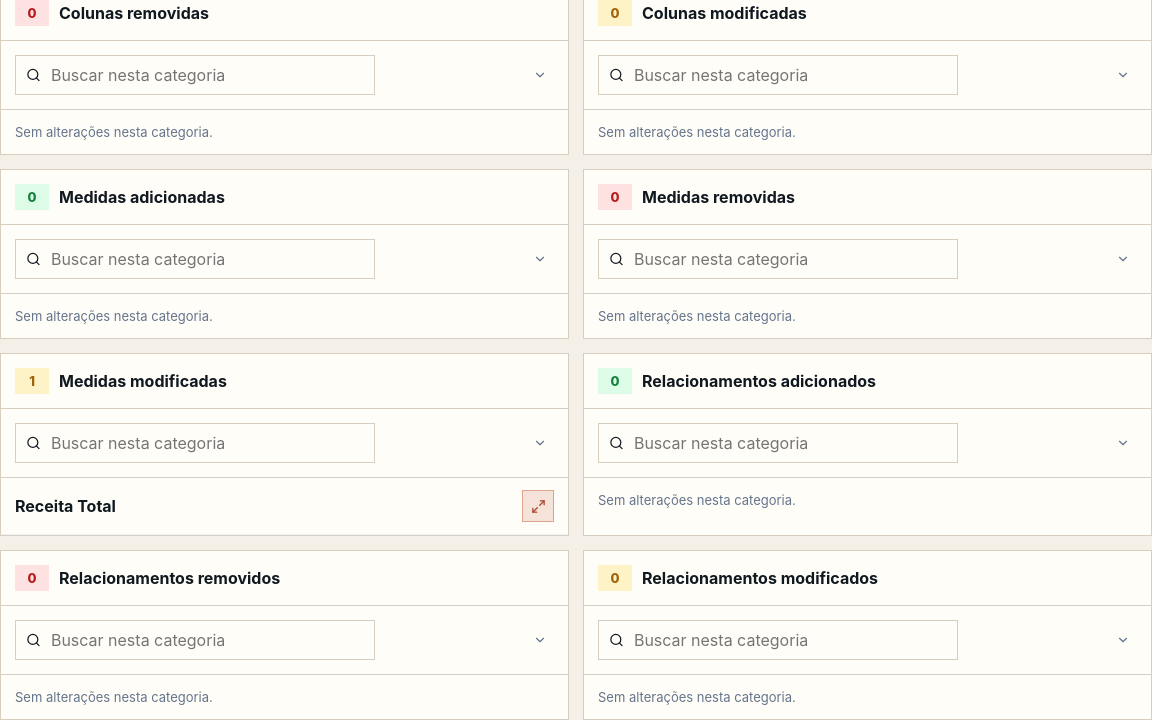
CompareView › mantem Antes e Depois para medida modificada
(page scrolled)
Expected: the list item "Receita Total" is shown, x1=1 y1=478 x2=568 y2=535
Click the button named "expandir detalhe". click: (538, 506)
box: x1=522 y1=490 x2=554 y2=522
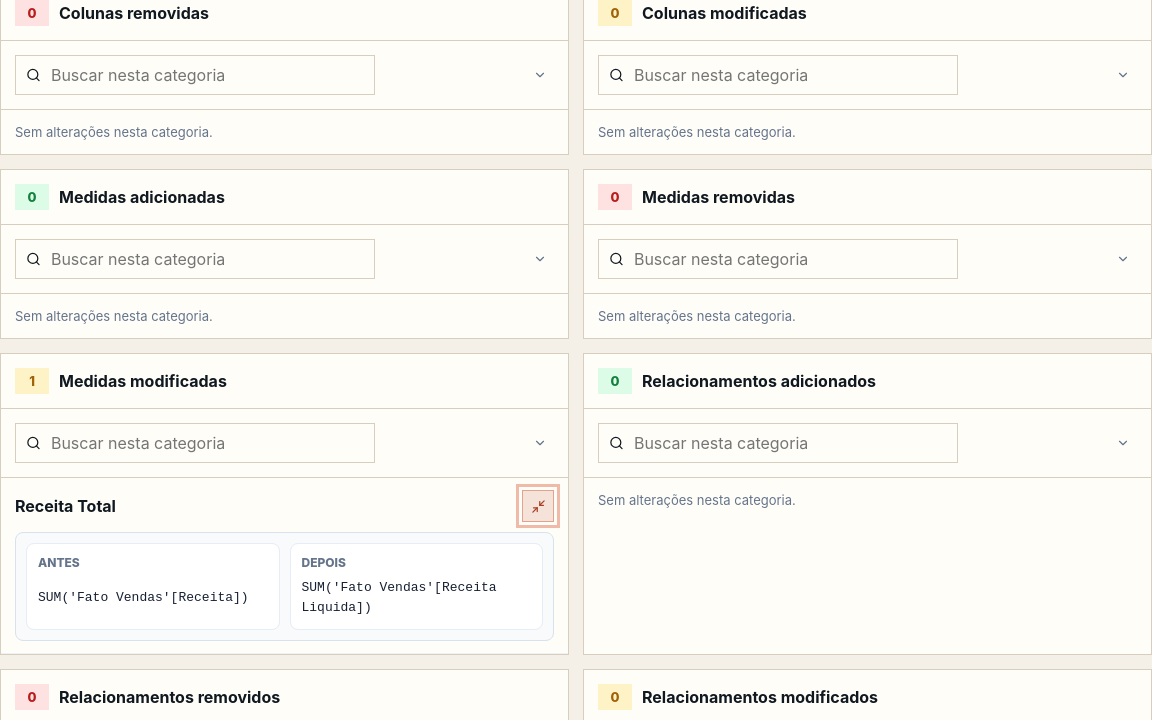
Expected: the text "Antes" is shown, x1=38 y1=555 x2=80 y2=570
Expected: the text "Depois" is shown, x1=302 y1=555 x2=346 y2=570
Expected: the text "SUM('Fato Vendas'[Receita])" is shown, x1=38 y1=590 x2=249 y2=605
